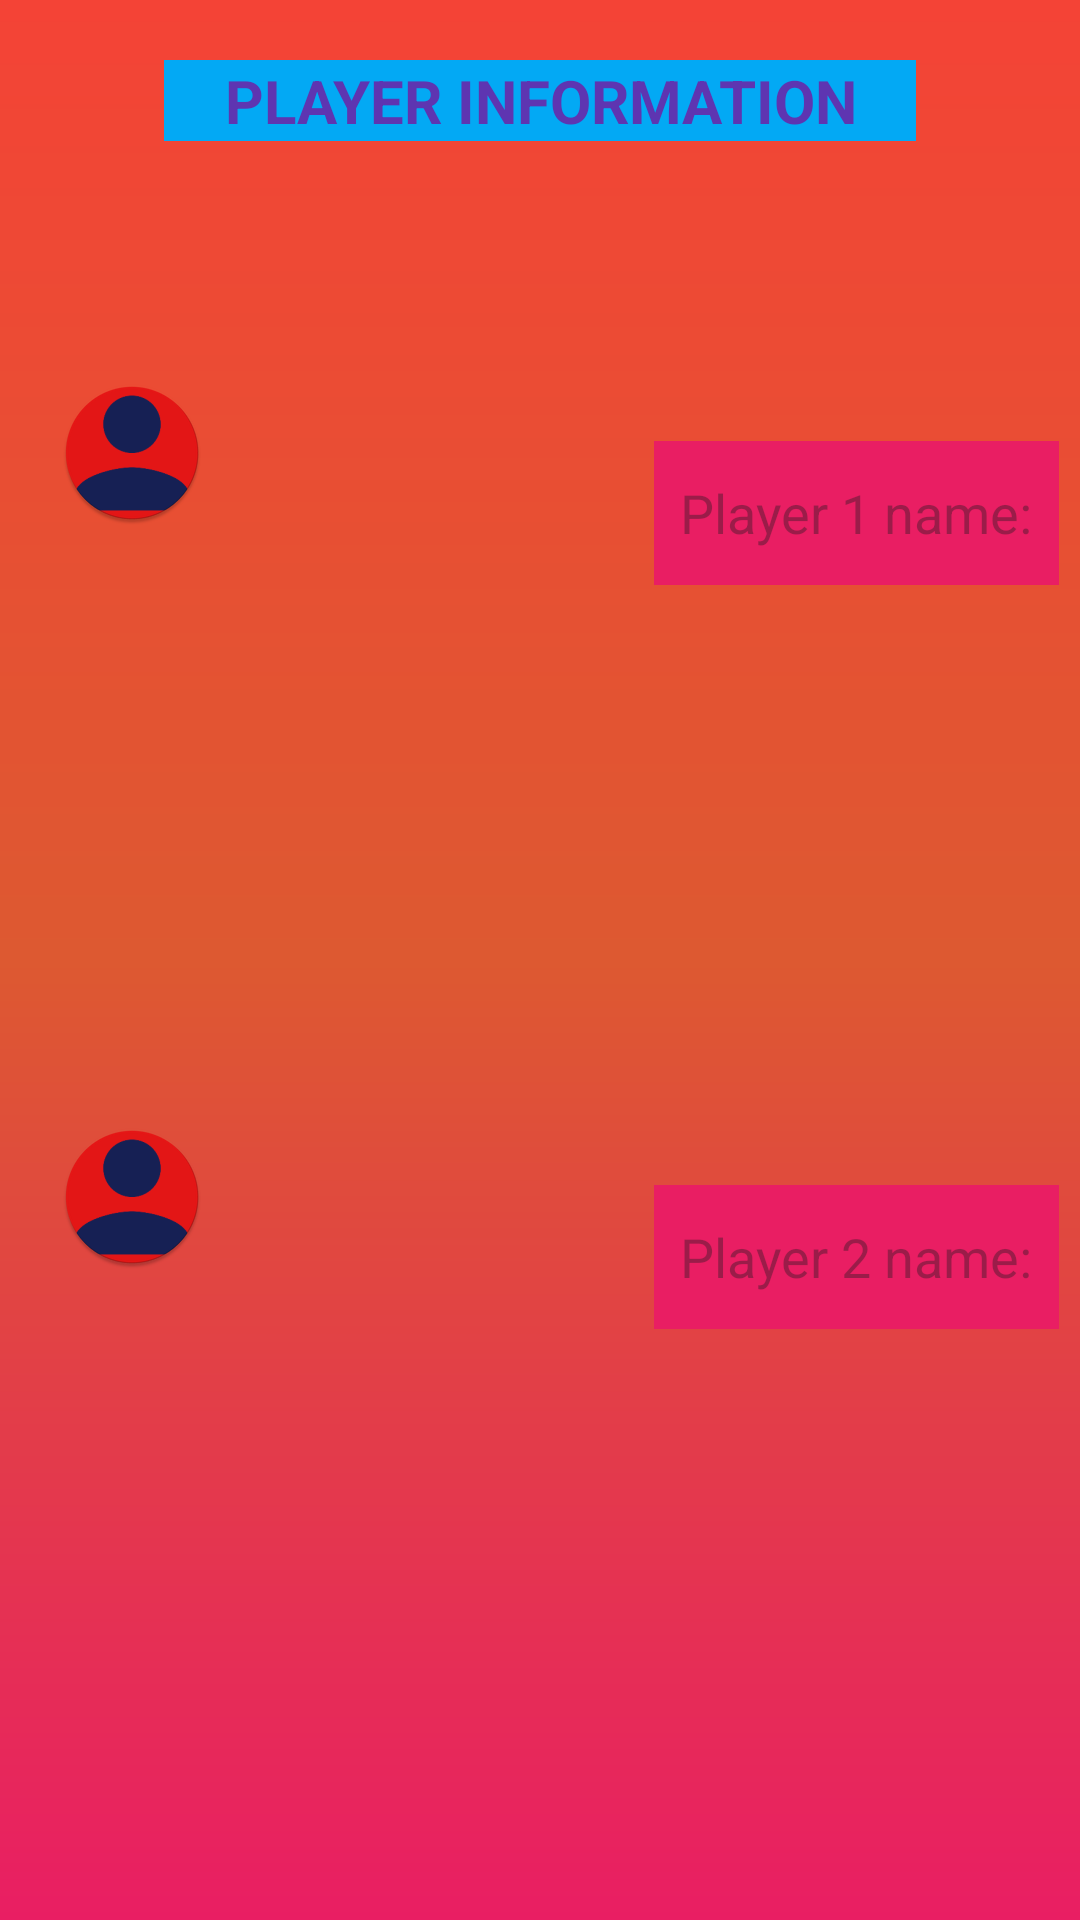

Icons on this 1080 × 1920 Android screen, each with its box as {"x1": x1, "y1": y1, "x2": x2, "y2": y2}:
player: {"x1": 66, "y1": 387, "x2": 199, "y2": 523}, {"x1": 66, "y1": 1131, "x2": 199, "y2": 1266}
